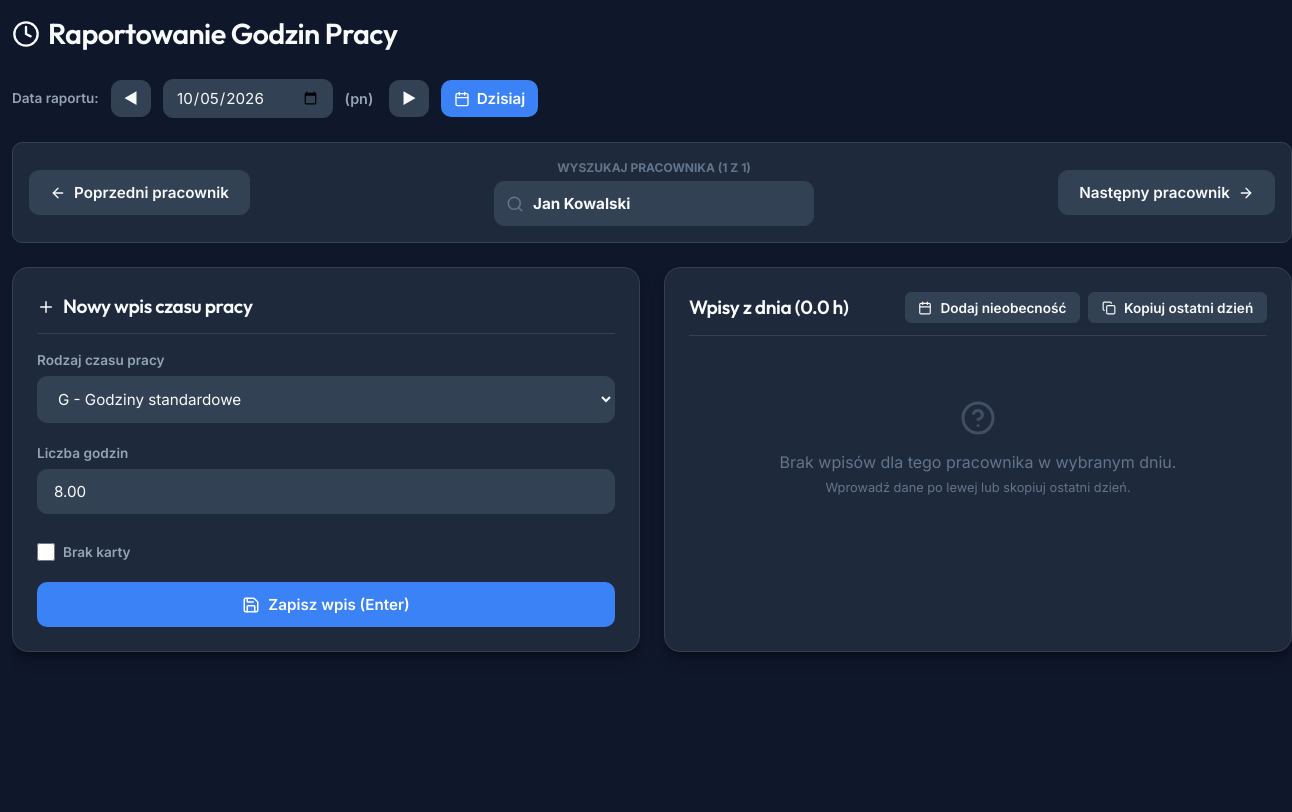
Test case: ReportingPanel — kopiowanie ostatniego dnia › odblokowuje przycisk po błędzie połączenia
Expected: the field showing "Jan Kowalski" below "Wyszukaj pracownika (" is shown, 494,181 -> 814,226
Click the button "Kopiuj ostatni dzień" at (1178, 308), box 1088,292 -> 1267,323
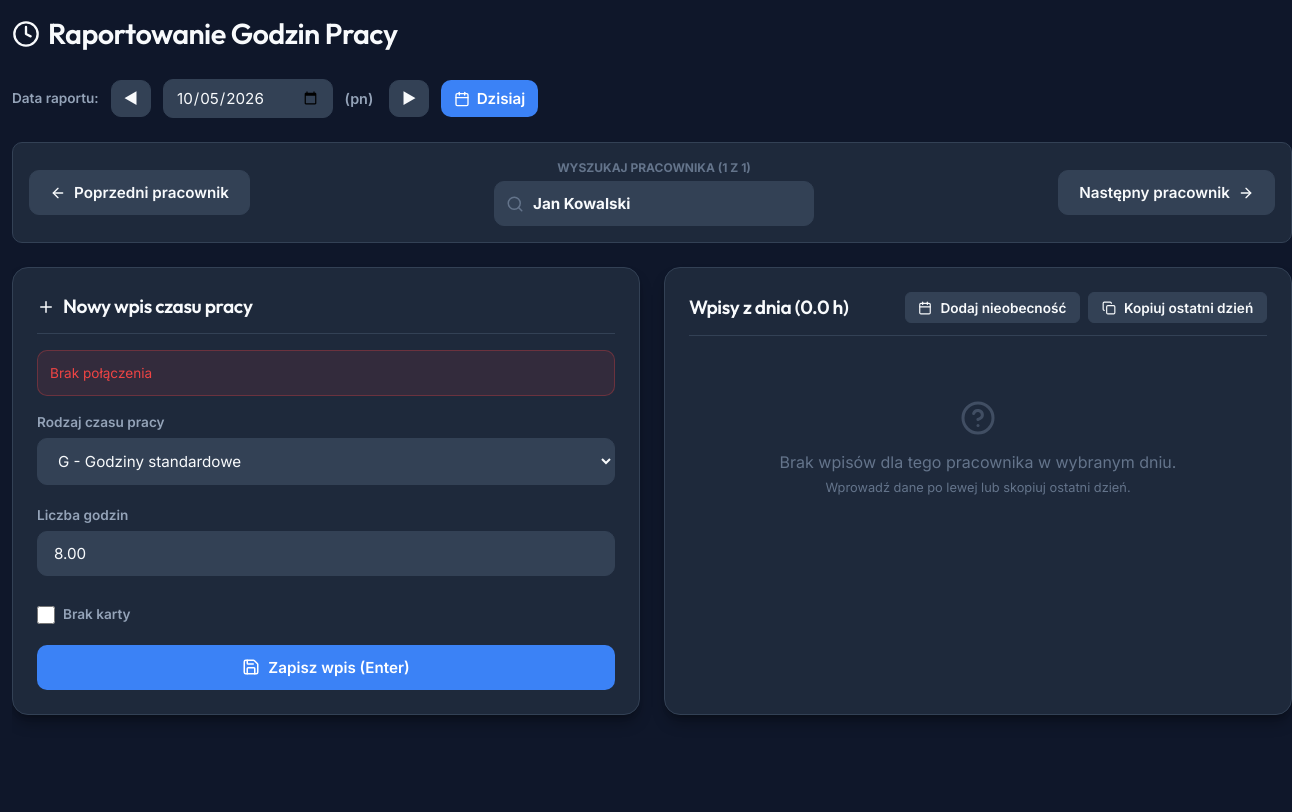
Expected: the text "Brak połączenia" is shown, 37,350 -> 615,396
